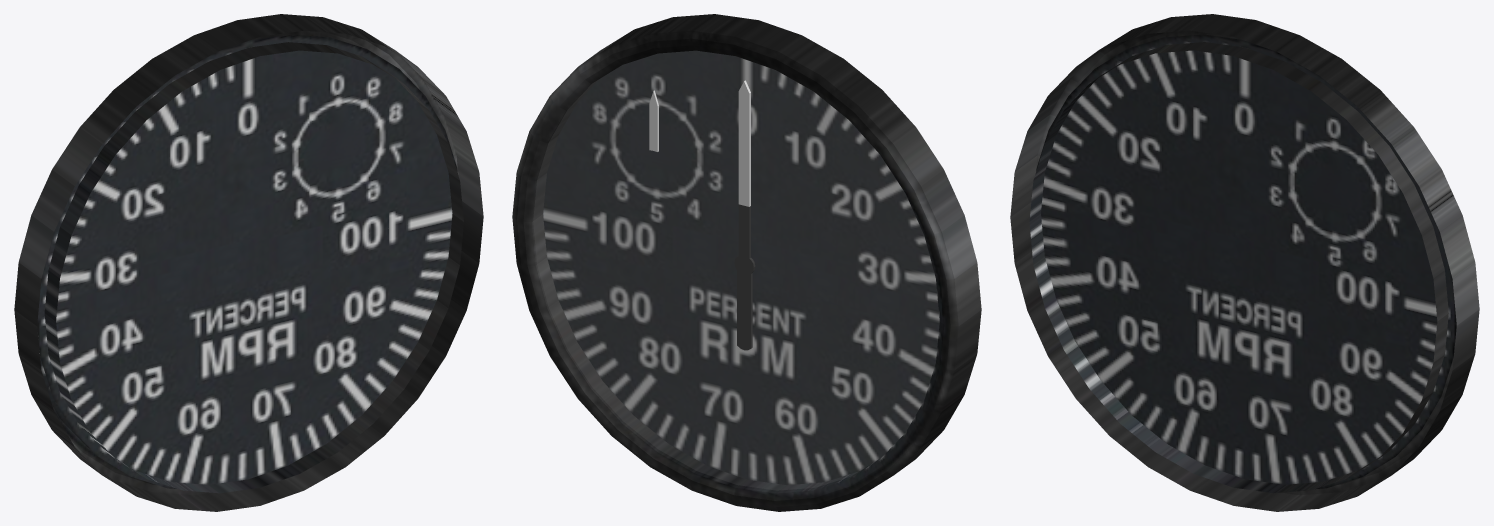
Rendered from tac.obj.
The picture shows the model from 3 angles, left to right: view 1: azimuth 30°, elevation 25°; view 2: azimuth 150°, elevation 25°; view 3: azimuth 330°, elevation 25°; orthographic projection.
Parts seen in each view (by area): view 1: face, fond; view 2: face, vitre, fond, needle, needle2; view 3: face, fond.
Part boxes in pixels (bbox=[...]): face: bbox=[37, 34, 457, 488]; fond: bbox=[14, 14, 483, 511]; face: bbox=[543, 50, 939, 484]; vitre: bbox=[534, 51, 938, 489]; fond: bbox=[512, 14, 981, 511]; needle: bbox=[734, 80, 755, 350]; needle2: bbox=[649, 90, 658, 151]; face: bbox=[1036, 34, 1456, 489]; fond: bbox=[1010, 14, 1479, 511].
Bounding box in the file's own units: 0.0758 × 0.0761 × 0.00724.
2 materials, 1 textured.
